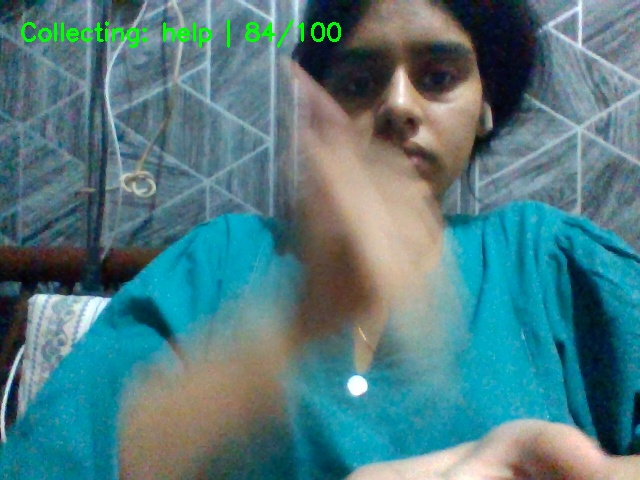help: (240, 48, 600, 480)
